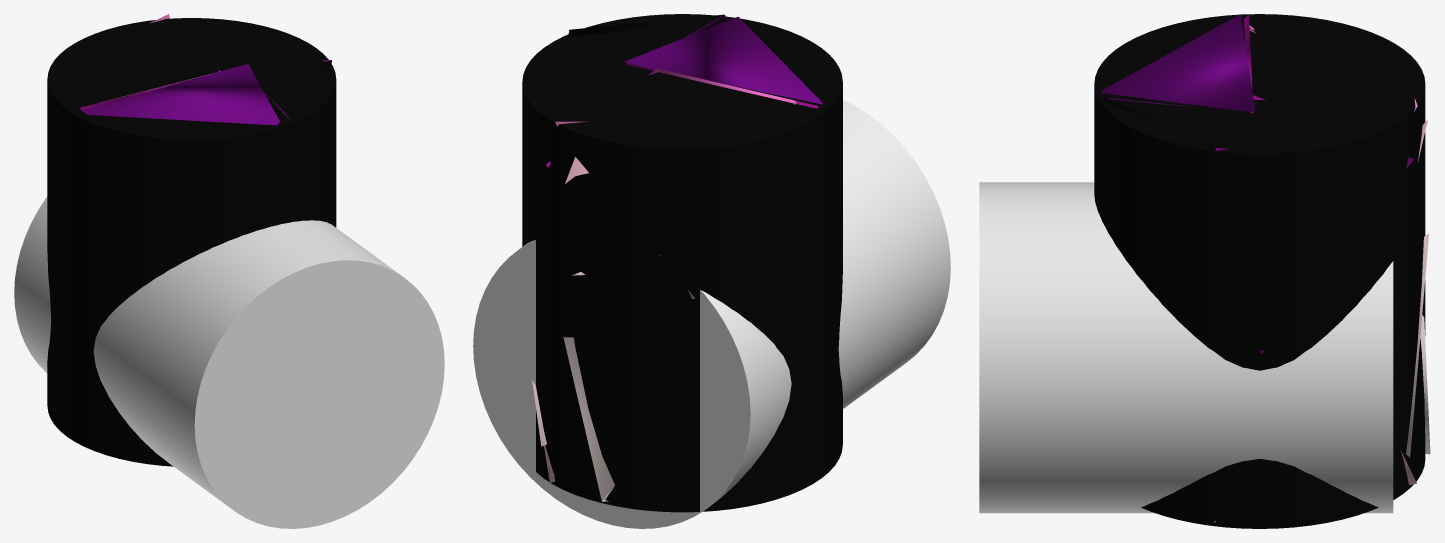
3 views of the same model, side by side, from view 1: azimuth 30°, elevation 25°; view 2: azimuth 150°, elevation 25°; view 3: azimuth 270°, elevation 25° (orthographic). The views are drawn at different scales.
Visible parts, largest first — view 1: Renderer Node; view 2: Renderer Node; view 3: Renderer Node.
Part boxes in pixels (x1,y1,x2,y2): Renderer Node: (14, 14, 444, 528); Renderer Node: (473, 14, 950, 528); Renderer Node: (979, 14, 1430, 528).
Size of the model in its own units: 1.78 by 2.4 by 2.37.
